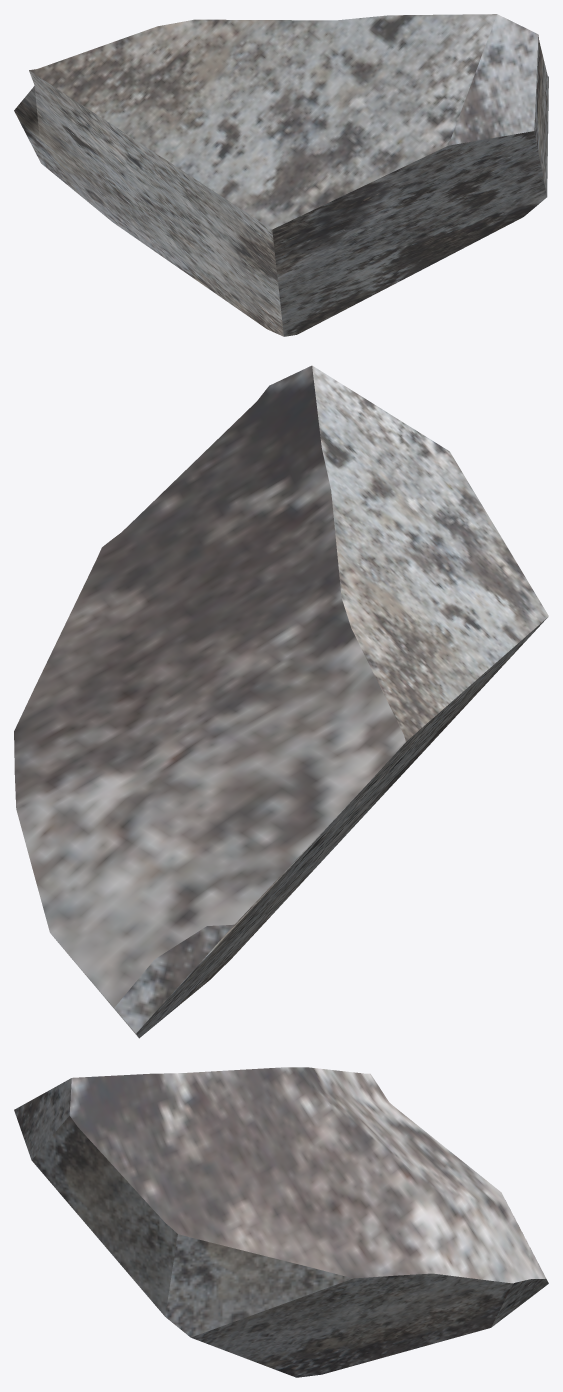
Rendered from Asteroid_Large_001_02_011_03_016.fbx.
3 renders of one model, top to bottom at view 1: azimuth 30°, elevation 25°; view 2: azimuth 150°, elevation 25°; view 3: azimuth 270°, elevation 25°, orthographic. The views are drawn at different scales.
Visible parts, largest first — view 1: Asteroid_Large_001_02_011_03_016; view 2: Asteroid_Large_001_02_011_03_016; view 3: Asteroid_Large_001_02_011_03_016.
Part boxes in pixels (x1,y1,x2,y2): Asteroid_Large_001_02_011_03_016: (14, 14, 548, 336); Asteroid_Large_001_02_011_03_016: (14, 365, 548, 1038); Asteroid_Large_001_02_011_03_016: (14, 1067, 548, 1377).
Bounding box in the file's own units: 7.79 × 7.82 × 11.72.
